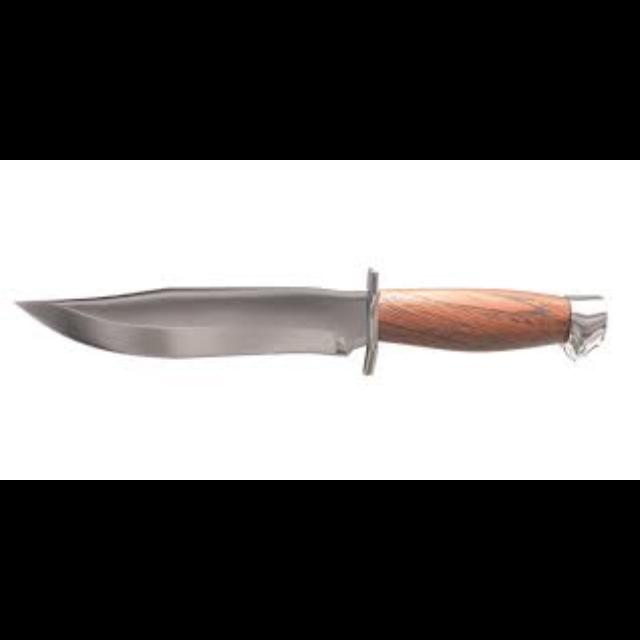knife: (12, 267, 608, 373)
